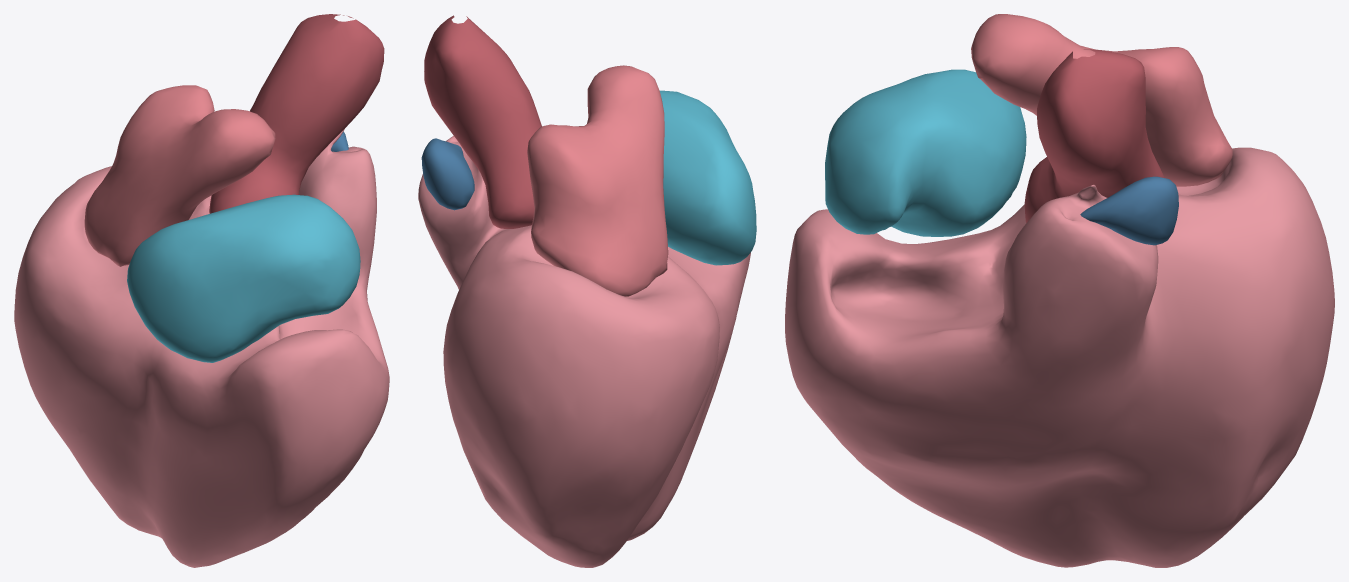
File: frame_34.glb
3 renders of one model, left to right at view 1: azimuth 30°, elevation 25°; view 2: azimuth 150°, elevation 25°; view 3: azimuth 270°, elevation 25°, orthographic. The views are drawn at different scales.
Parts seen in each view (by area): view 1: Renderer Node; view 2: Renderer Node; view 3: Renderer Node.
Part boxes in pixels (x1,y1,x2,y2): Renderer Node: [14, 14, 389, 567]; Renderer Node: [418, 15, 756, 567]; Renderer Node: [785, 14, 1334, 567].
Bounding box in the file's own units: 106 × 164 × 134.
